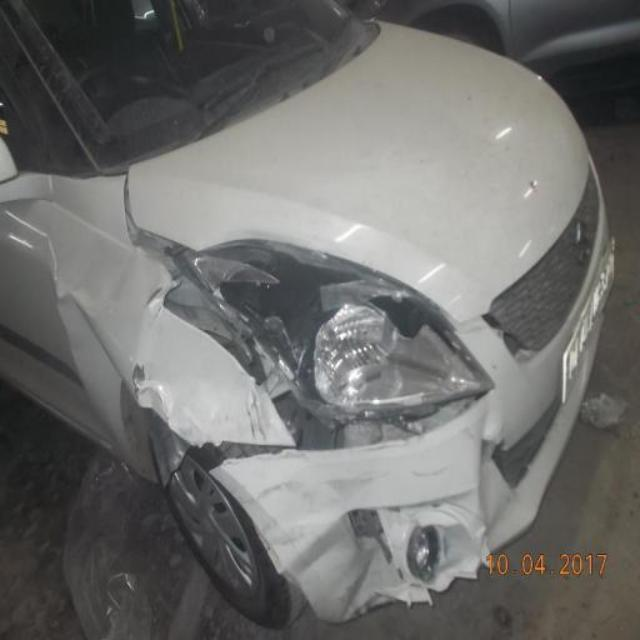dent: (113, 173, 508, 628)
dislocated part: (188, 442, 286, 472)
lamp broken: (157, 231, 498, 456)
